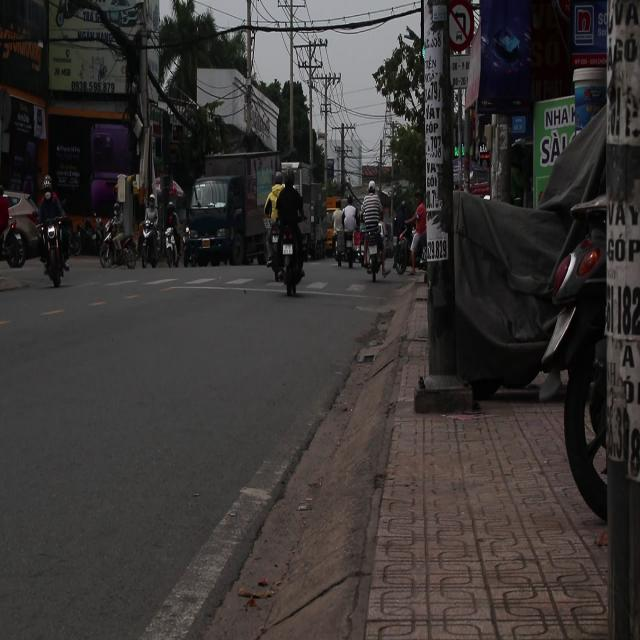motorbike: (97, 206, 141, 280), (272, 208, 306, 298), (358, 215, 392, 293), (36, 215, 72, 288), (0, 193, 36, 266), (137, 211, 167, 282), (161, 209, 183, 279)
truck: (184, 175, 256, 268)
